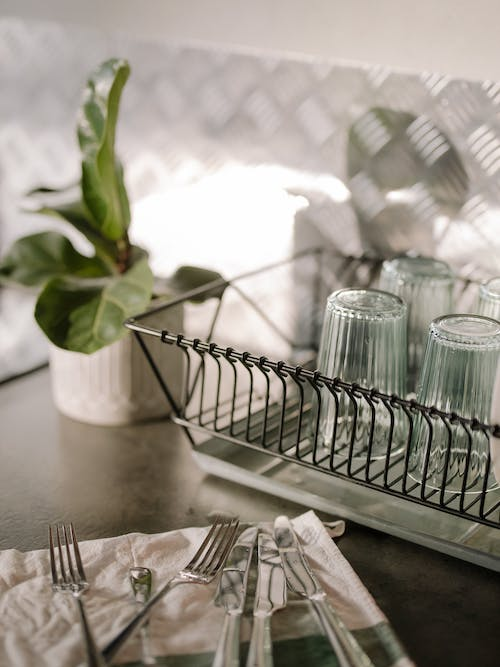knife: (271, 510, 384, 667), (211, 525, 260, 667), (244, 531, 288, 667)
